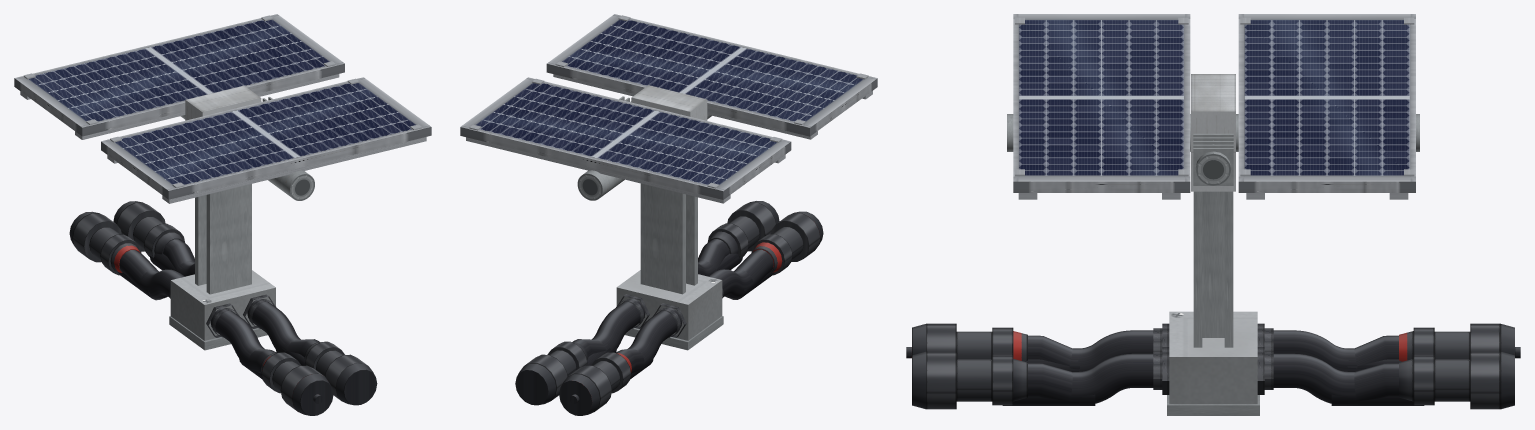
The model's file is pv_track.obj.
The picture shows the model from 3 angles, left to right: view 1: azimuth 30°, elevation 25°; view 2: azimuth 150°, elevation 25°; view 3: azimuth 270°, elevation 25°; orthographic projection. The views are drawn at different scales.
Visible parts, largest first — view 1: rotate_modules_1, rotate_modules_0, harness, harness_plug_south, pier, harness_plug_north, motor, rotate_rails_1, rotate_tube, rotate_rails_0; view 2: rotate_modules_0, rotate_modules_1, harness, harness_plug_north, pier, harness_plug_south, motor, rotate_rails_0, rotate_tube, rotate_rails_1; view 3: rotate_modules_0, rotate_modules_1, harness, harness_plug_south, harness_plug_north, pier, motor, rotate_tube.
Boxes of the visible parts, left/top/right/bottom form: rotate_modules_1: left=101, top=77, right=431, bottom=199; rotate_modules_0: left=14, top=14, right=344, bottom=136; harness: left=118, top=253, right=305, bottom=379; harness_plug_south: left=239, top=339, right=377, bottom=415; pier: left=169, top=184, right=267, bottom=350; harness_plug_north: left=69, top=201, right=194, bottom=300; motor: left=185, top=85, right=272, bottom=120; rotate_rails_1: left=107, top=137, right=426, bottom=203; rotate_tube: left=180, top=115, right=314, bottom=200; rotate_rails_0: left=20, top=74, right=339, bottom=139; rotate_modules_0: left=460, top=77, right=791, bottom=199; rotate_modules_1: left=546, top=14, right=877, bottom=136; harness: left=587, top=253, right=774, bottom=379; harness_plug_north: left=515, top=339, right=653, bottom=415; pier: left=625, top=183, right=723, bottom=350; harness_plug_south: left=698, top=201, right=823, bottom=299; motor: left=619, top=85, right=707, bottom=120; rotate_rails_0: left=466, top=137, right=785, bottom=203; rotate_tube: left=577, top=114, right=711, bottom=200; rotate_rails_1: left=553, top=74, right=872, bottom=139; rotate_modules_0: left=1238, top=14, right=1415, bottom=192; rotate_modules_1: left=1013, top=14, right=1190, bottom=192; harness: left=1002, top=311, right=1424, bottom=405; harness_plug_south: left=906, top=323, right=1095, bottom=409; harness_plug_north: left=1331, top=323, right=1520, bottom=409; pier: left=1167, top=191, right=1259, bottom=415; motor: left=1191, top=74, right=1235, bottom=191; rotate_tube: left=1007, top=114, right=1419, bottom=151.
Size of what is drawn, in the model's own units: 0.94 by 0.785 by 1.46.
